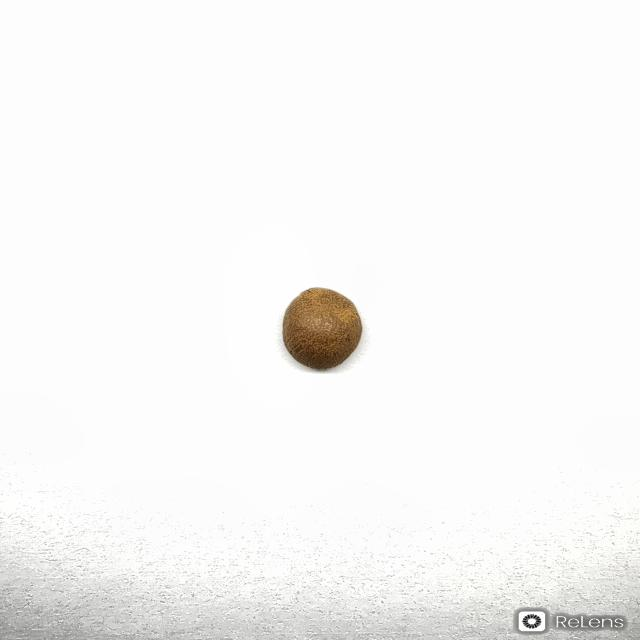Good bean: (281, 286, 363, 370)
